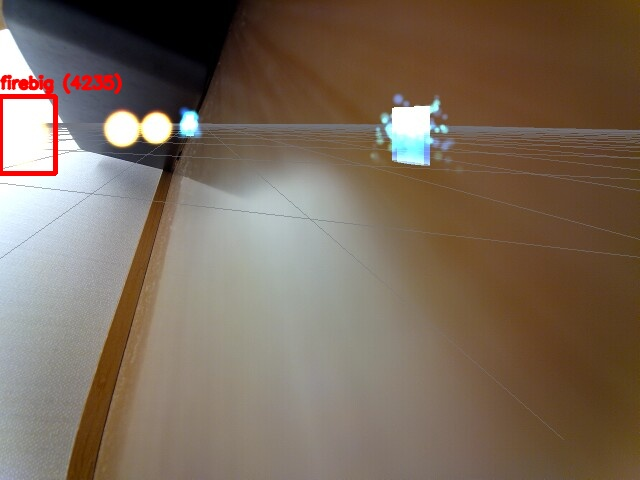firebig: (0, 96, 55, 173)
